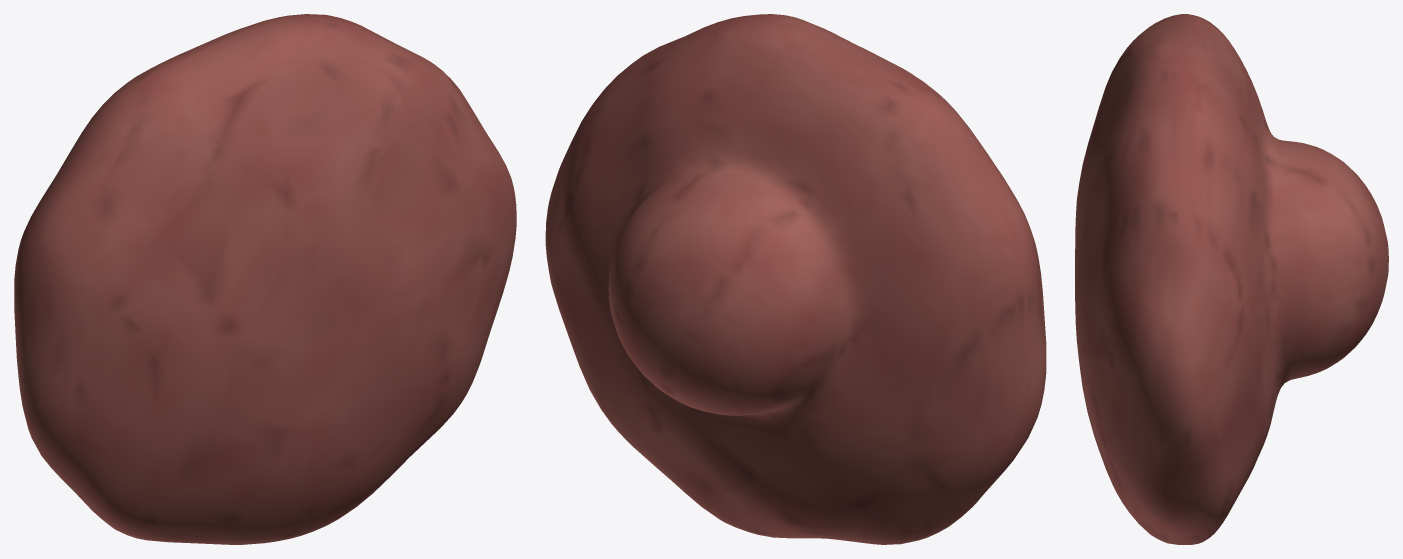
The model's file is polypoid.glb.
The picture shows the model from 3 angles, left to right: view 1: azimuth 30°, elevation 25°; view 2: azimuth 150°, elevation 25°; view 3: azimuth 270°, elevation 25°; orthographic projection. The views are drawn at different scales.
Parts seen in each view (by area): view 1: polypoid; view 2: polypoid; view 3: polypoid.
Part boxes in pixels (<box>): polypoid: <box>14,14,516,544</box>; polypoid: <box>545,14,1046,544</box>; polypoid: <box>1075,14,1388,544</box>.
Size of the model in its own units: 2 by 2 by 1.18.
